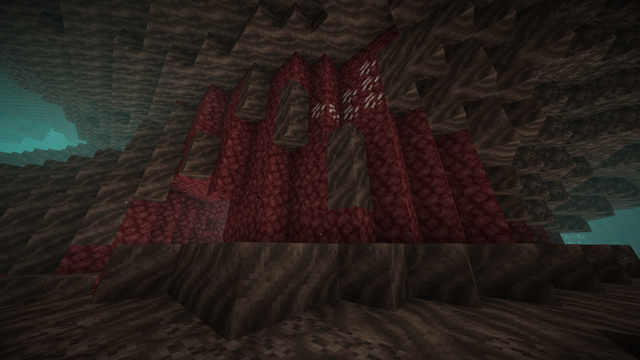quartz: (311, 61, 384, 119)
